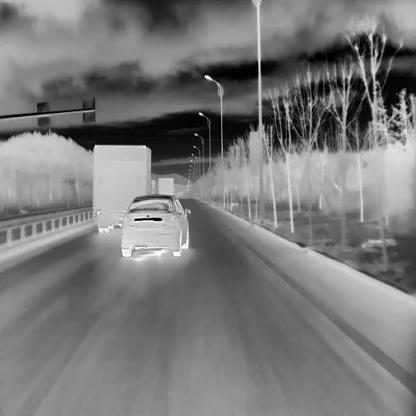car: (92, 144, 155, 232), (121, 192, 191, 256), (158, 177, 173, 203)
